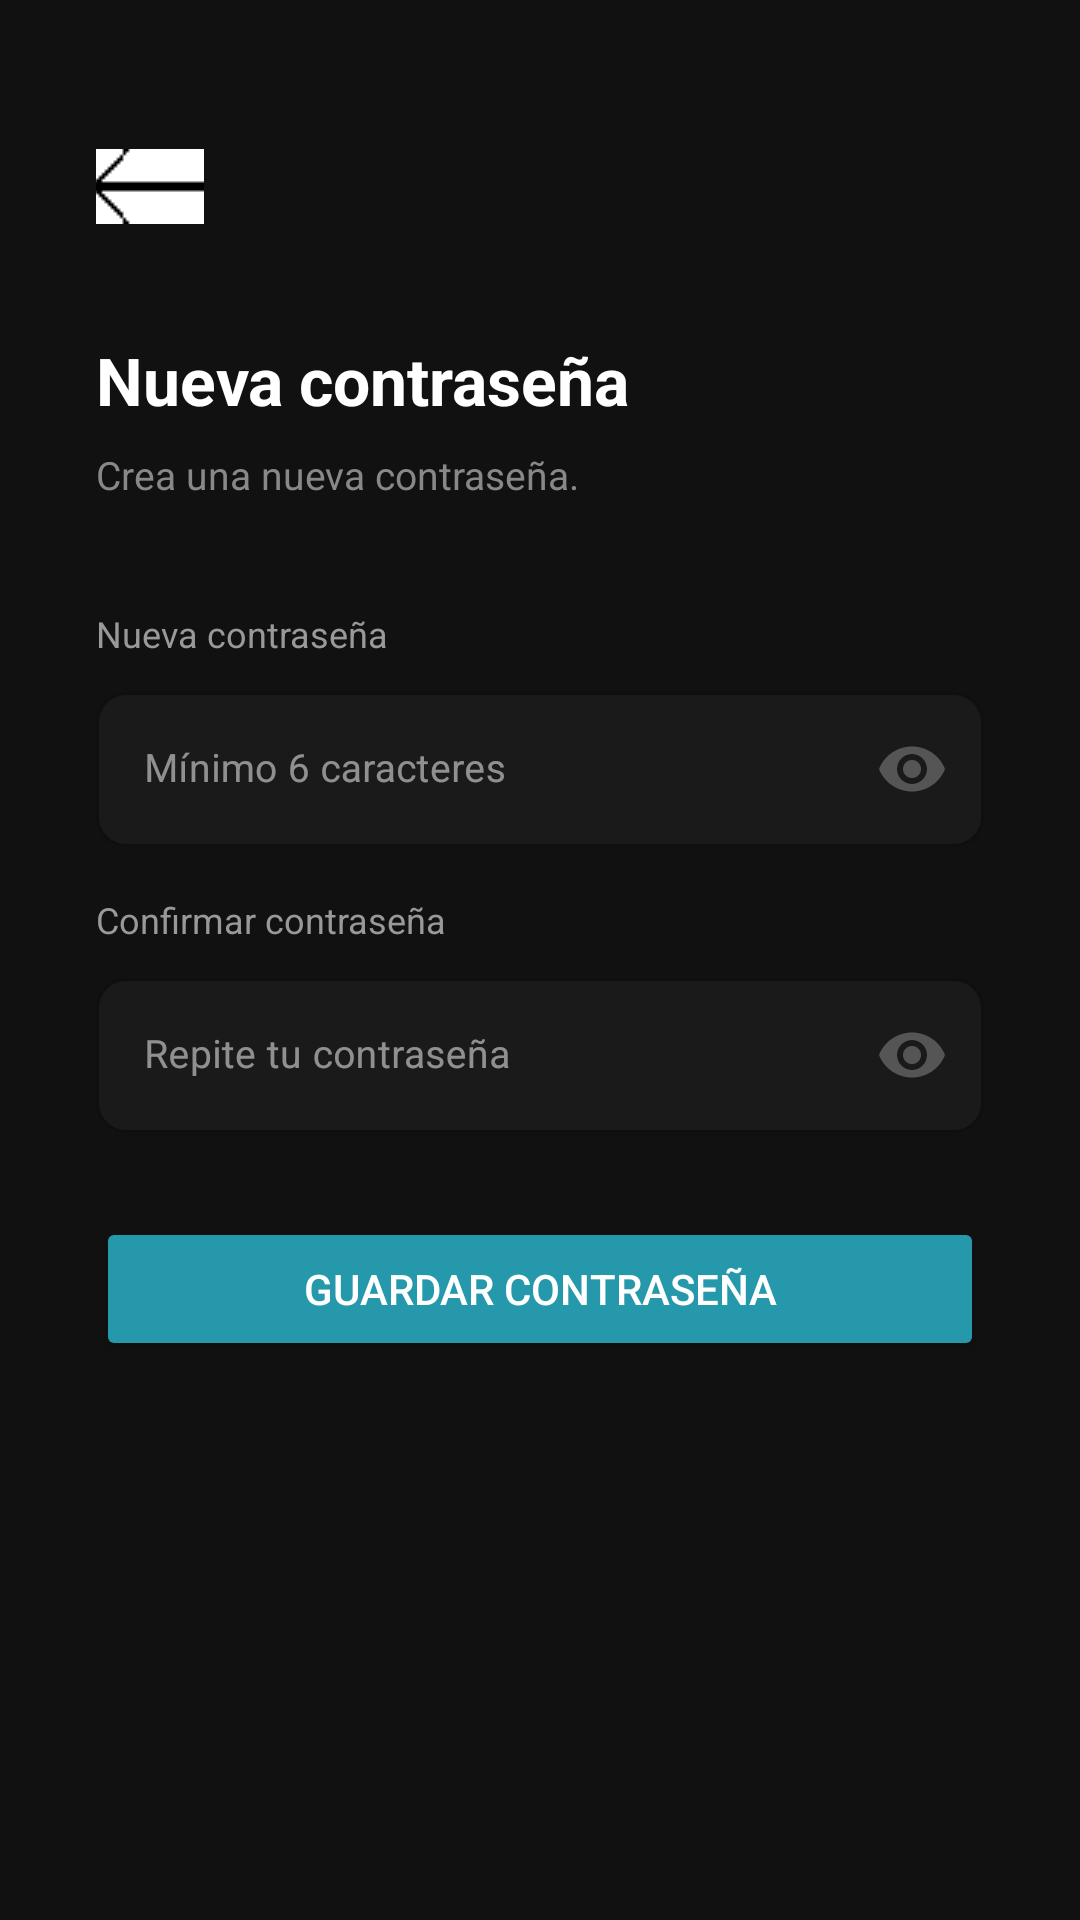

Icon bounding boxes for this 1080*1920 phone screenshot, format detection(x1, y1, x2, y2):
arrow back: detection(96, 149, 204, 224)
